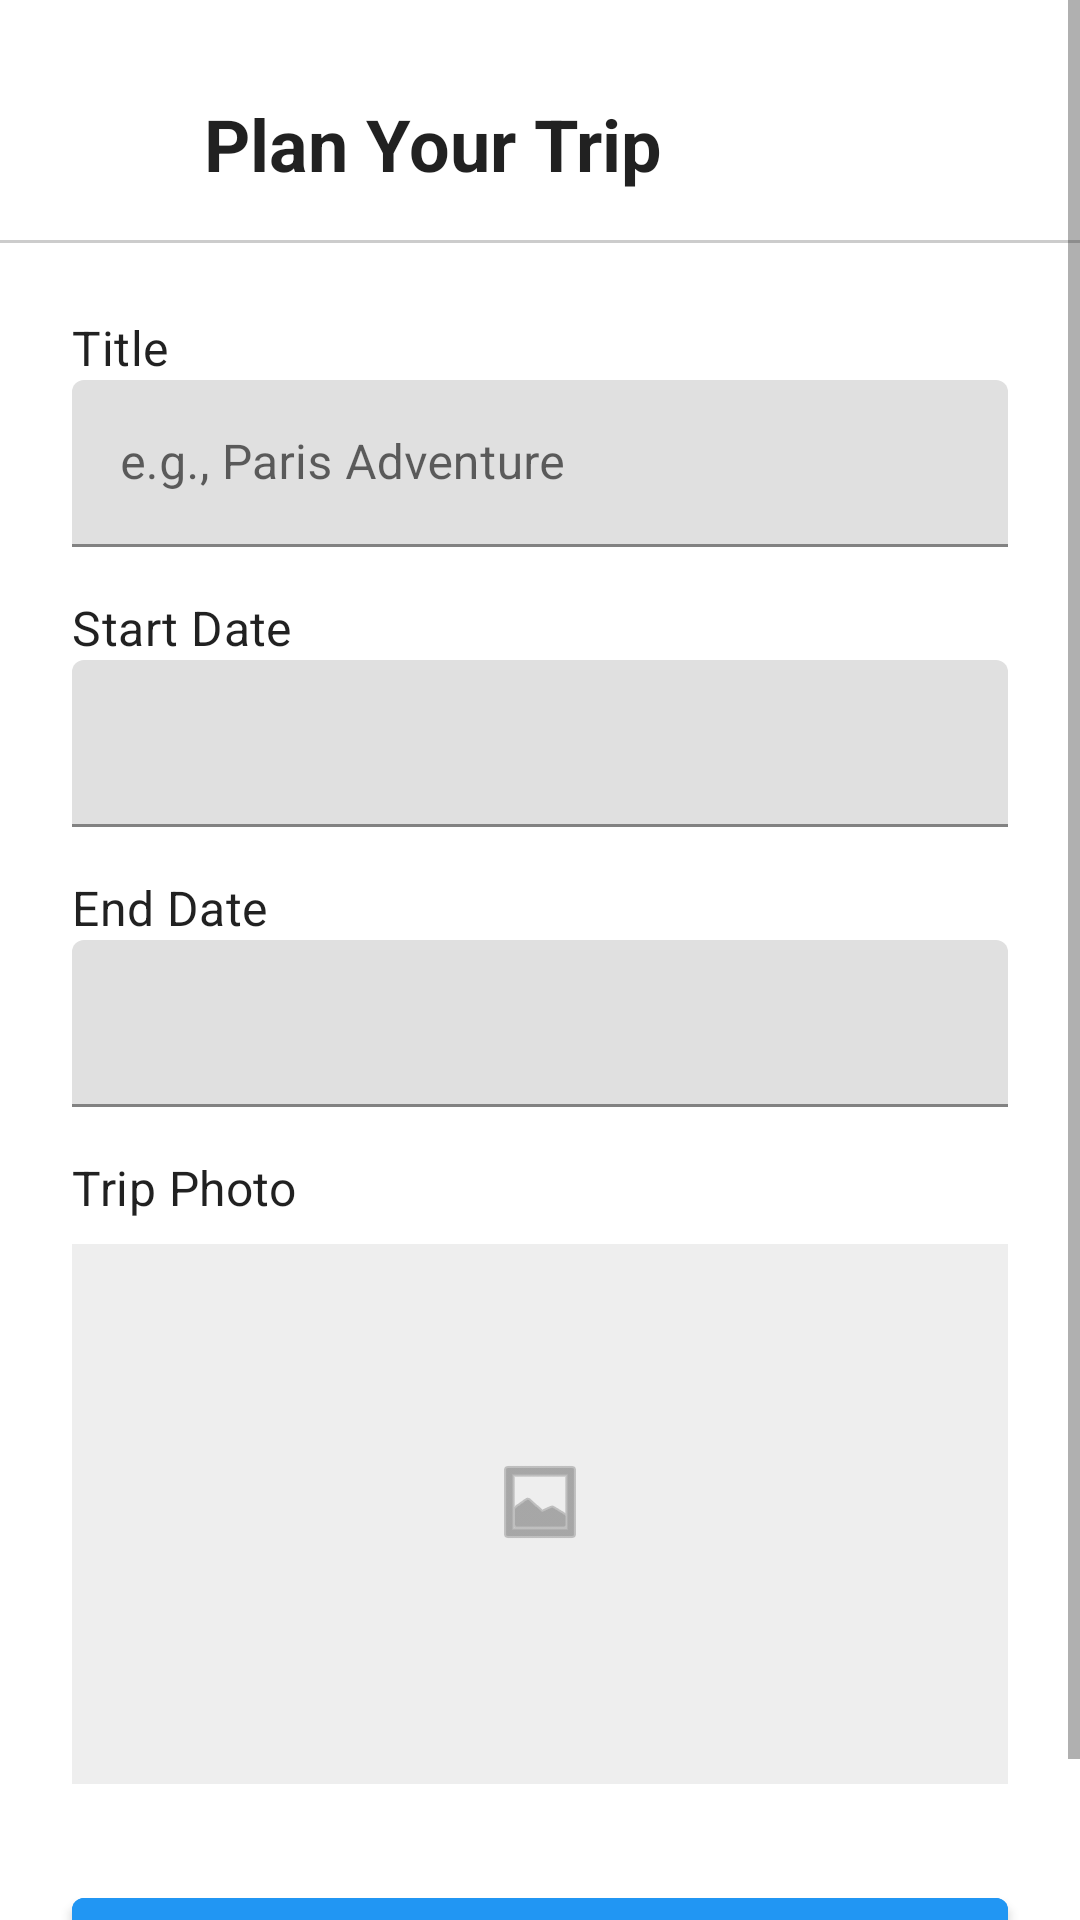

Where icons sit on this 1080w x 1920h app screen, as detection(x1, y1, x2, y2):
gallery: detection(504, 1466, 576, 1538)
